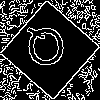Q: (25, 25, 67, 76)
